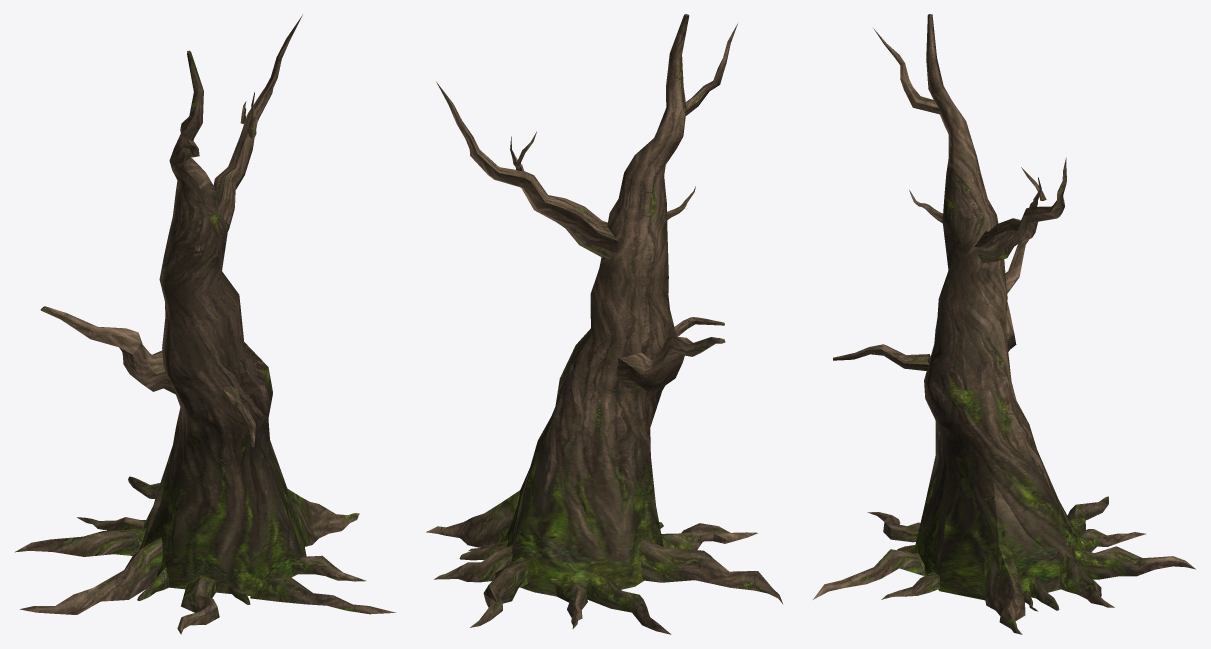
The model's file is jd_shu_1_02.FBX.
3 renders of one model, left to right at view 1: azimuth 30°, elevation 25°; view 2: azimuth 150°, elevation 25°; view 3: azimuth 270°, elevation 25°, orthographic. The views are drawn at different scales.
Visible parts, largest first — view 1: jd_shu_1_02; view 2: jd_shu_1_02; view 3: jd_shu_1_02.
Boxes of the visible parts, left/top/right/bottom form: jd_shu_1_02: left=15, top=15, right=396, bottom=634; jd_shu_1_02: left=426, top=14, right=782, bottom=634; jd_shu_1_02: left=813, top=14, right=1195, bottom=634.
Size of the model in its own units: 453 by 676 by 451.
